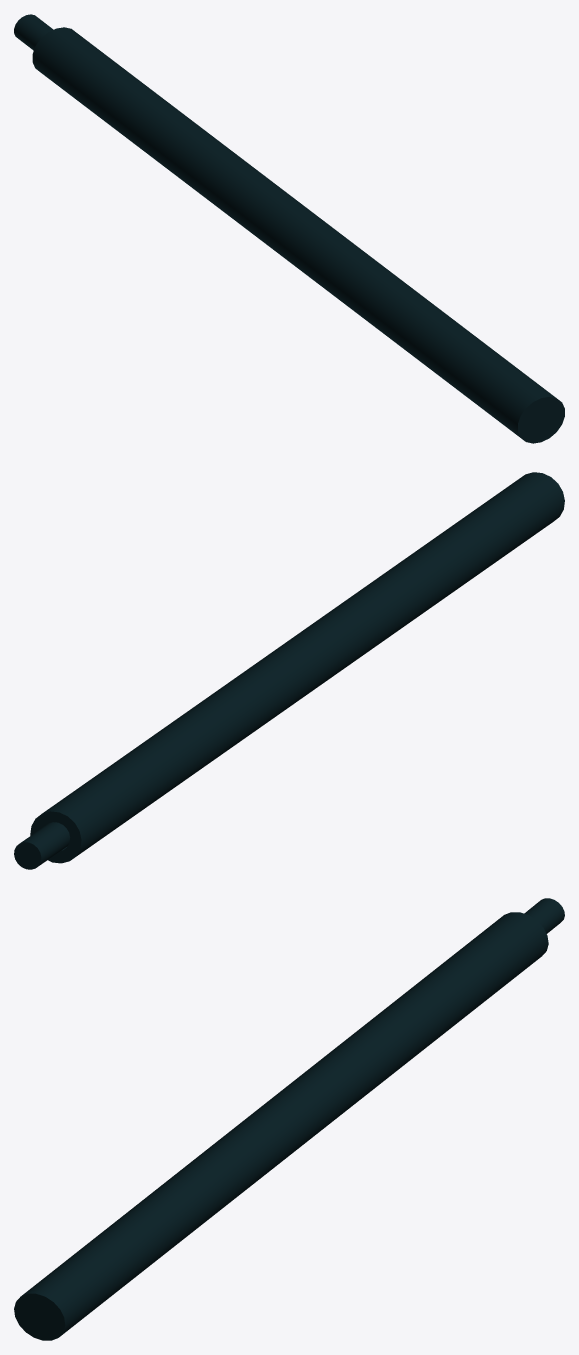
The model's file is HandleLarge.obj.
3 renders of one model, top to bottom at view 1: azimuth 30°, elevation 25°; view 2: azimuth 150°, elevation 25°; view 3: azimuth 330°, elevation 25°, orthographic. The views are drawn at different scales.
Visible parts, largest first — view 1: Cylinder01, Object01; view 2: Cylinder01, Object01; view 3: Cylinder01, Object01.
Boxes of the visible parts, box(x1,y1,x2,y2) form: Cylinder01: box(32, 27, 564, 443); Object01: box(14, 14, 53, 50); Cylinder01: box(30, 472, 564, 863); Object01: box(14, 822, 70, 869); Cylinder01: box(14, 912, 548, 1340); Object01: box(524, 898, 564, 933).
Bounding box in the file's own units: 5.11 × 6.02 × 81.75.
